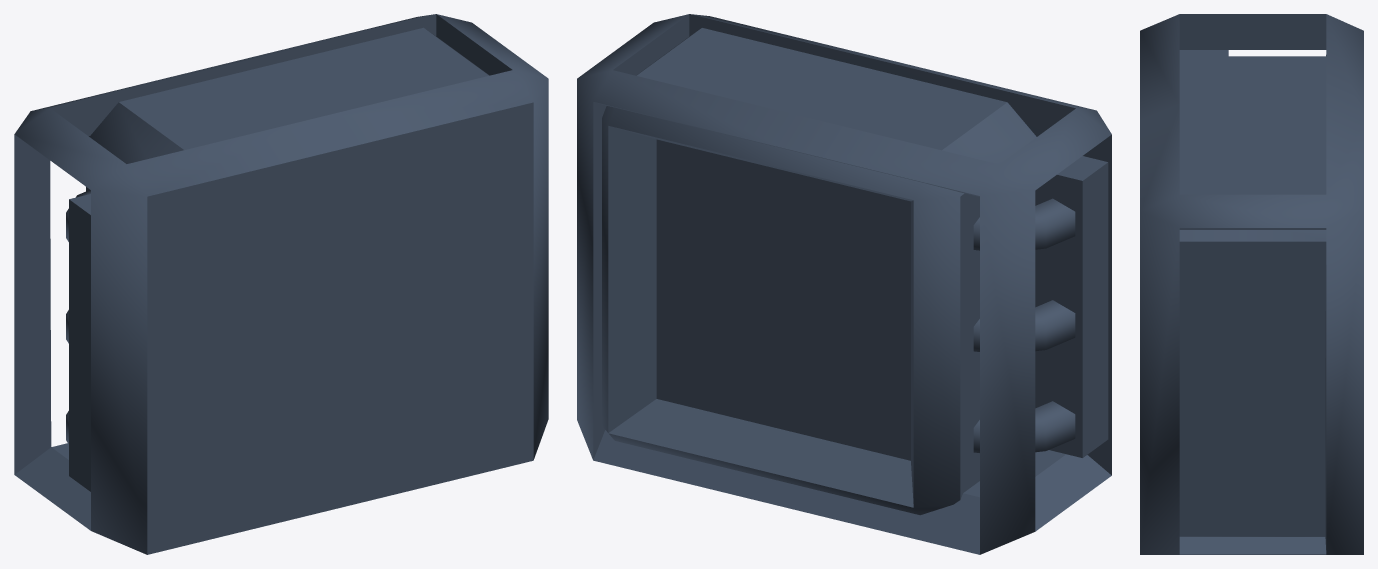
Rendered from acs17_part1_Device1.fbx.
3 renders of one model, left to right at view 1: azimuth 30°, elevation 25°; view 2: azimuth 150°, elevation 25°; view 3: azimuth 270°, elevation 25°, orthographic. The views are drawn at different scales.
Visible parts, largest first — view 1: Box015, ChamferBox002, Box019; view 2: ChamferBox002, Box015, Box019, Cylinder123, Cylinder069, Cylinder124; view 3: ChamferBox002, Box015, Box019.
Boxes of the visible parts, bbox=[...] form: Box015: bbox=[14, 14, 548, 554]; ChamferBox002: bbox=[86, 27, 489, 191]; Box019: bbox=[69, 194, 90, 491]; ChamferBox002: bbox=[602, 28, 1036, 515]; Box015: bbox=[577, 14, 1111, 554]; Box019: bbox=[1035, 156, 1108, 457]; Cylinder123: bbox=[973, 401, 1075, 452]; Cylinder069: bbox=[973, 198, 1075, 250]; Cylinder124: bbox=[973, 300, 1075, 351]; ChamferBox002: bbox=[1179, 56, 1326, 536]; Box015: bbox=[1140, 14, 1363, 554]; Box019: bbox=[1179, 50, 1228, 56].
Bounding box in the file's own units: 139 × 109 × 61.52.
